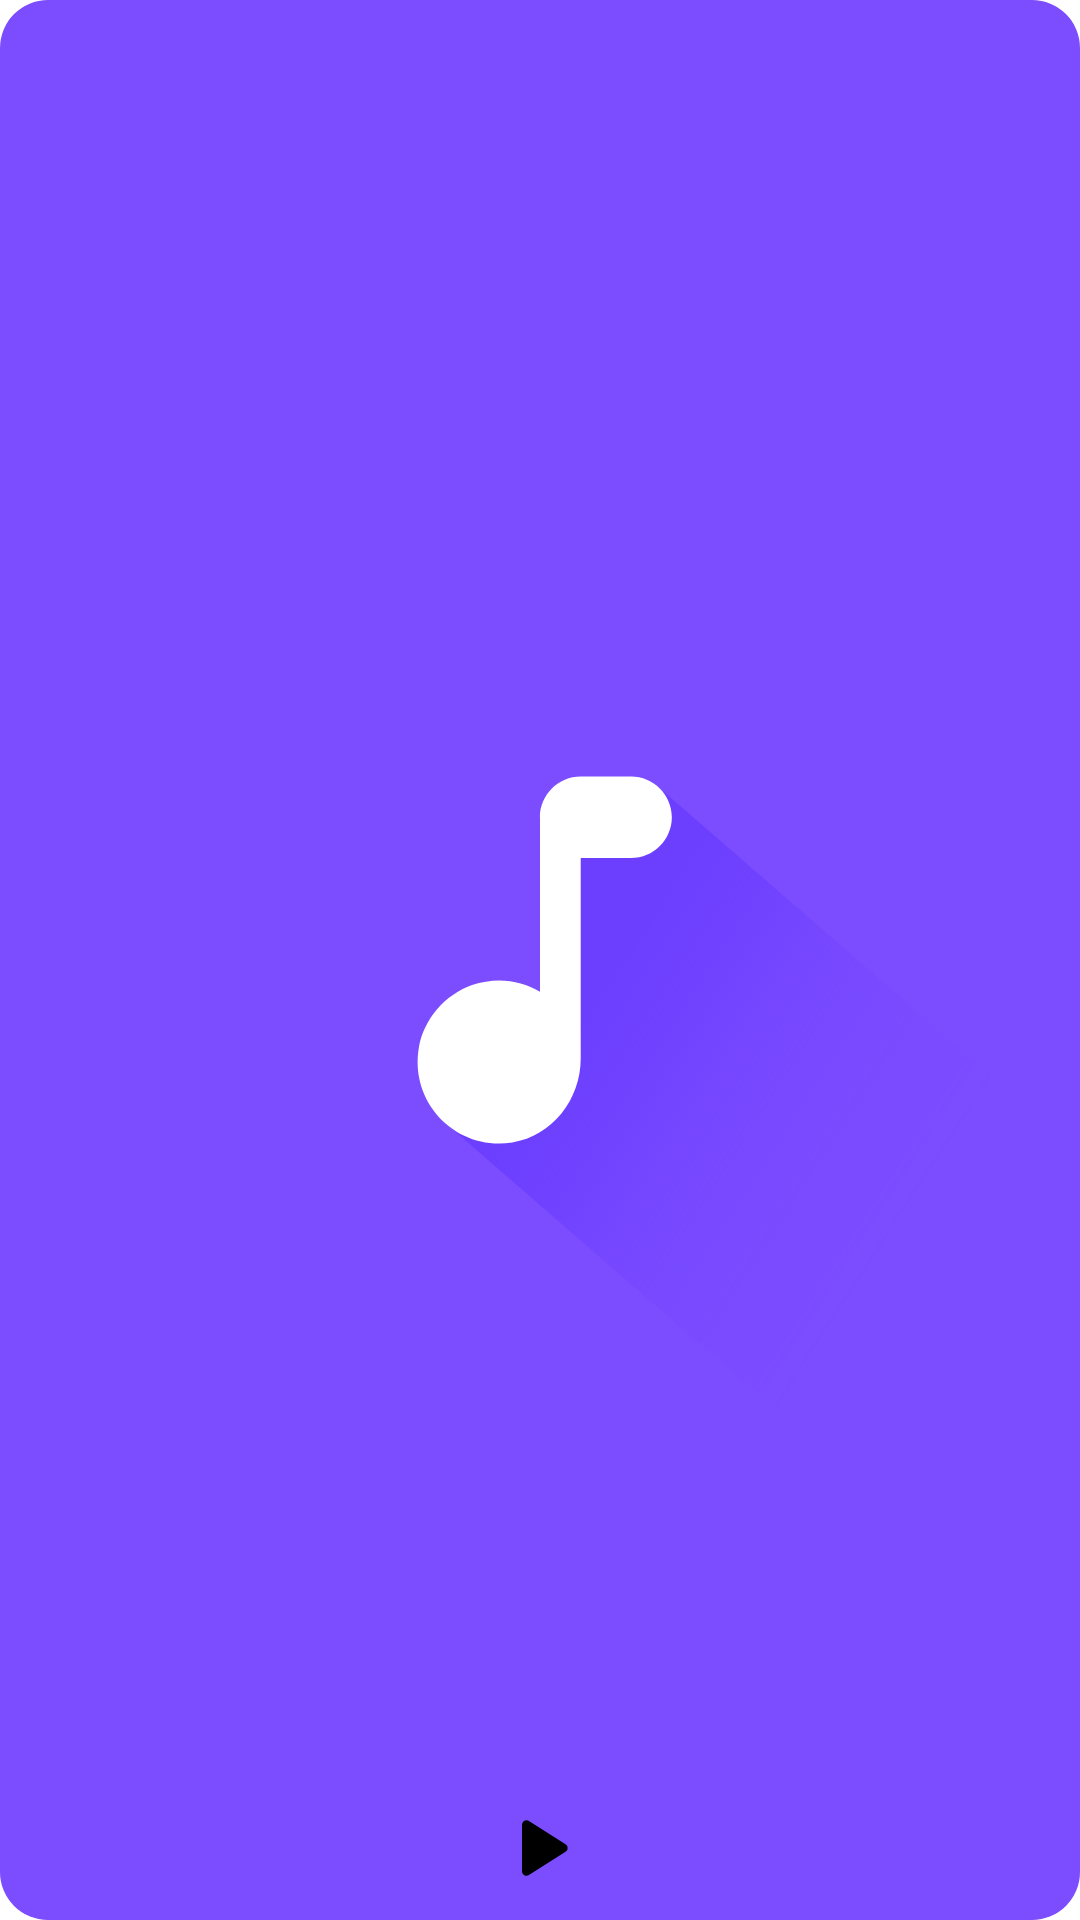

Icon click points for this 1080px x 1920px phone screenshot, format point (x, y):
Play: point (545, 1848)
